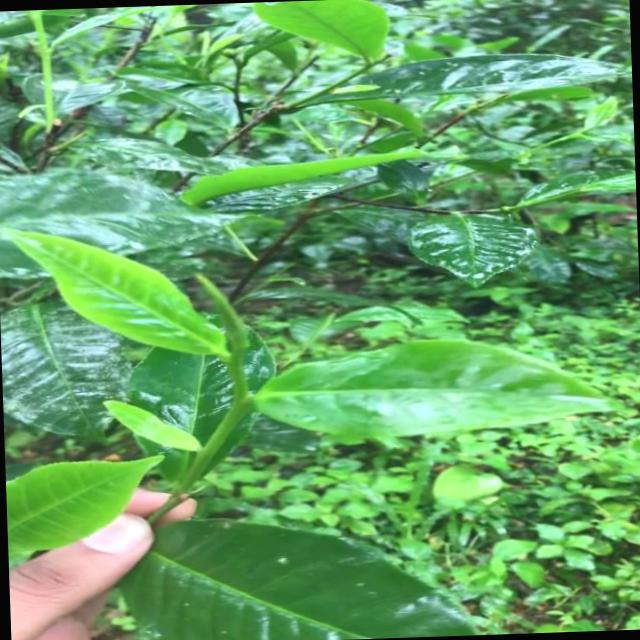Stem: (210, 407, 243, 443)
